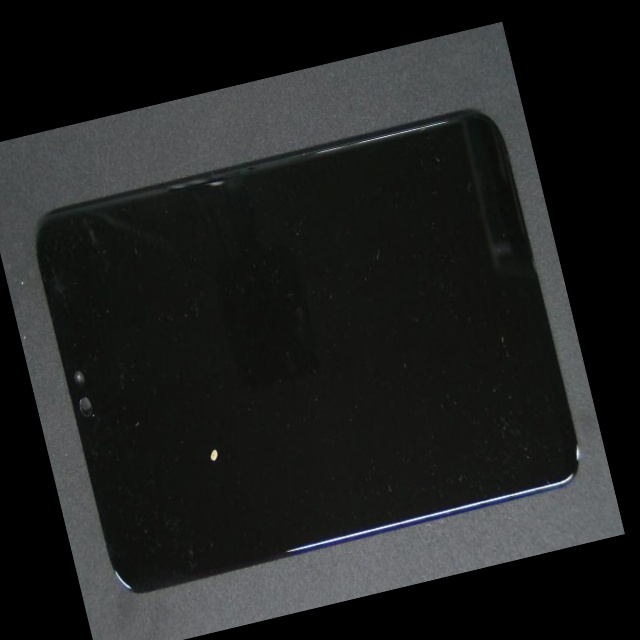stain: (127, 282, 348, 627)
